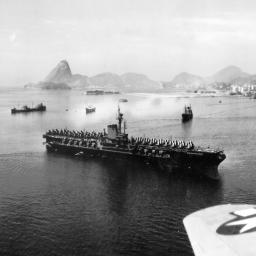Portanaves: (44, 103, 229, 181)
